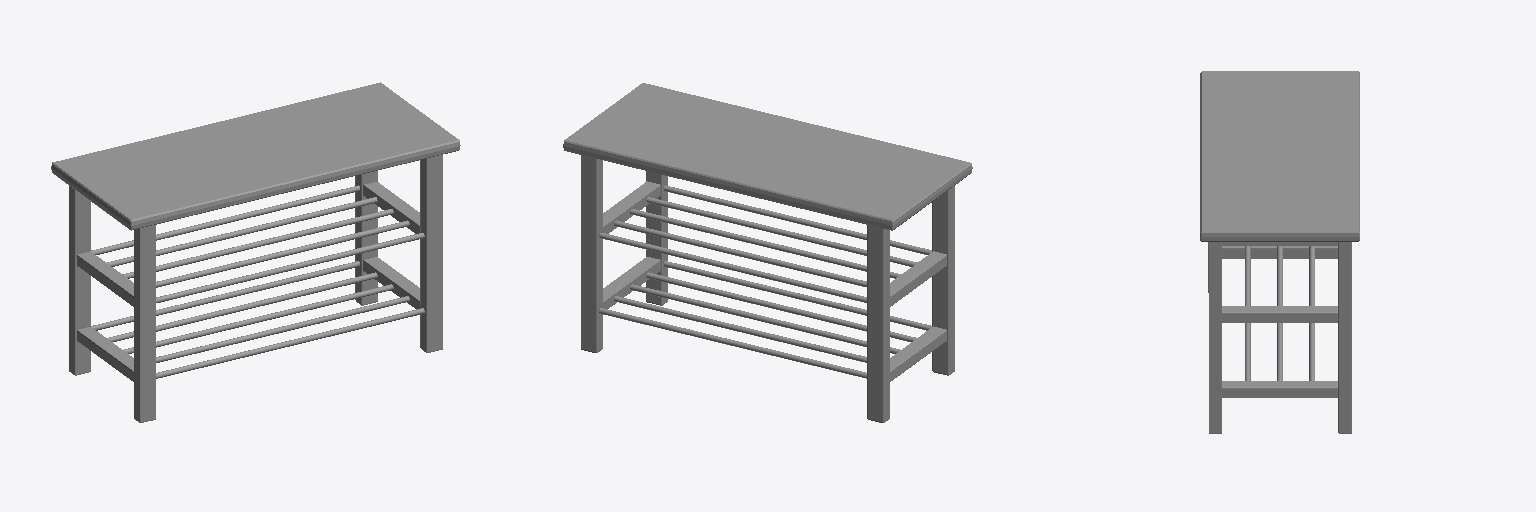
The model's file is rack.obj.
The picture shows the model from 3 angles: view 1: azimuth 30°, elevation 25°; view 2: azimuth 150°, elevation 25°; view 3: azimuth 270°, elevation 25°; orthographic projection.
Parts seen in each view (by area): view 1: Shoe_rack_Cube.040; view 2: Shoe_rack_Cube.040; view 3: Shoe_rack_Cube.040.
Part boxes in pixels (left/top/right/bottom): Shoe_rack_Cube.040: left=51, top=82, right=460, bottom=422; Shoe_rack_Cube.040: left=563, top=83, right=972, bottom=422; Shoe_rack_Cube.040: left=1200, top=71, right=1359, bottom=433.
Bounding box in the file's own units: 0.81 × 0.4909 × 0.34.